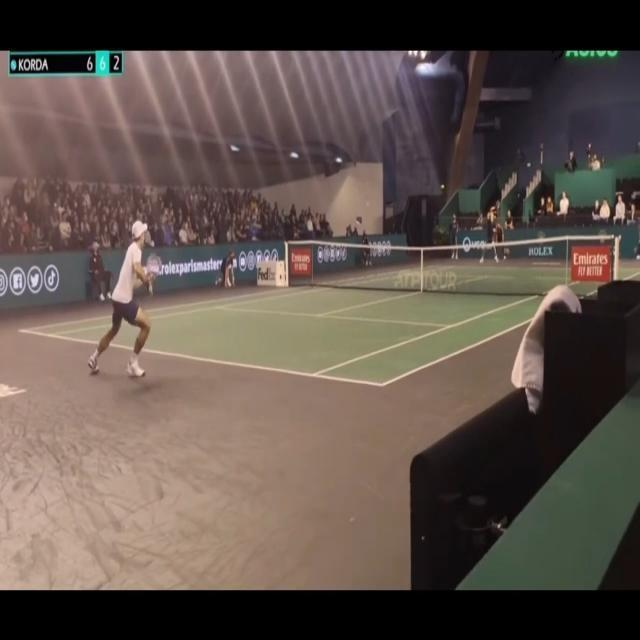court: (18, 263, 640, 387)
net: (282, 232, 620, 296)
player: (88, 219, 162, 379)
